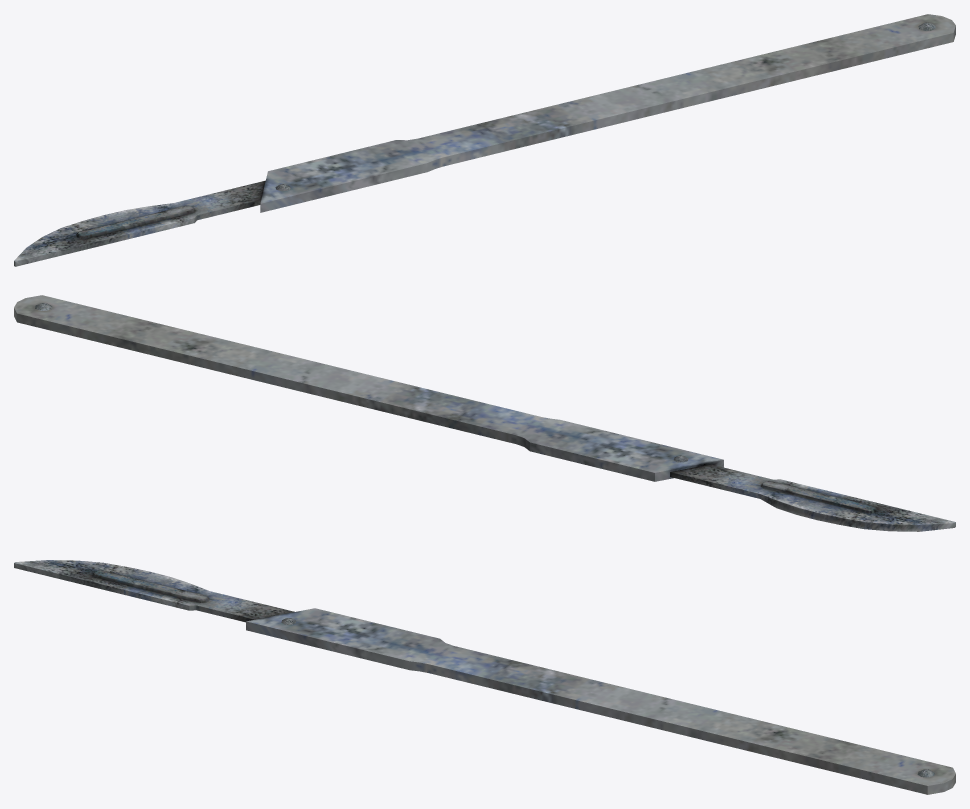
File: surgery_scalpel.dae
3 views of the same model, one above another, from view 1: azimuth 30°, elevation 25°; view 2: azimuth 150°, elevation 25°; view 3: azimuth 330°, elevation 25° (orthographic). The views are drawn at different scales.
Parts seen in each view (by area): view 1: polySurface17; view 2: polySurface17; view 3: polySurface17.
Part boxes in pixels (x1=…): polySurface17: x1=14, y1=14, x2=955, y2=266; polySurface17: x1=14, y1=295, x2=955, y2=531; polySurface17: x1=14, y1=560, x2=955, y2=794.
Bounding box in the file's own units: 24.9 × 0.3993 × 1.47.
